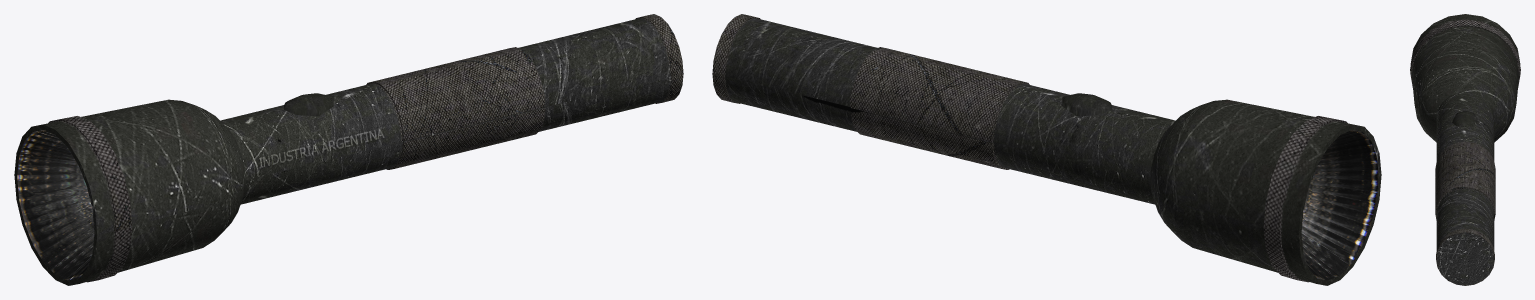
File: linterna.obj
The picture shows the model from 3 angles, left to right: view 1: azimuth 30°, elevation 25°; view 2: azimuth 150°, elevation 25°; view 3: azimuth 270°, elevation 25°; orthographic projection. The views are drawn at different scales.
Visible parts, largest first — view 1: Linterna; view 2: Linterna; view 3: Linterna.
Part boxes in pixels (box(x1,y1,x2,y2)): Linterna: box(14, 14, 683, 285); Linterna: box(712, 14, 1381, 285); Linterna: box(1410, 14, 1520, 285).
Size of the model in its own units: 0.1515 by 0.0363 by 0.0363.
1 material, 1 textured.
